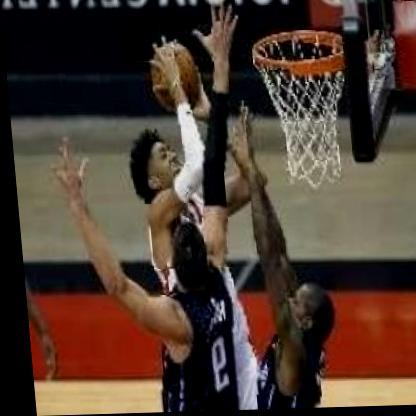basketball: (148, 44, 208, 110)
